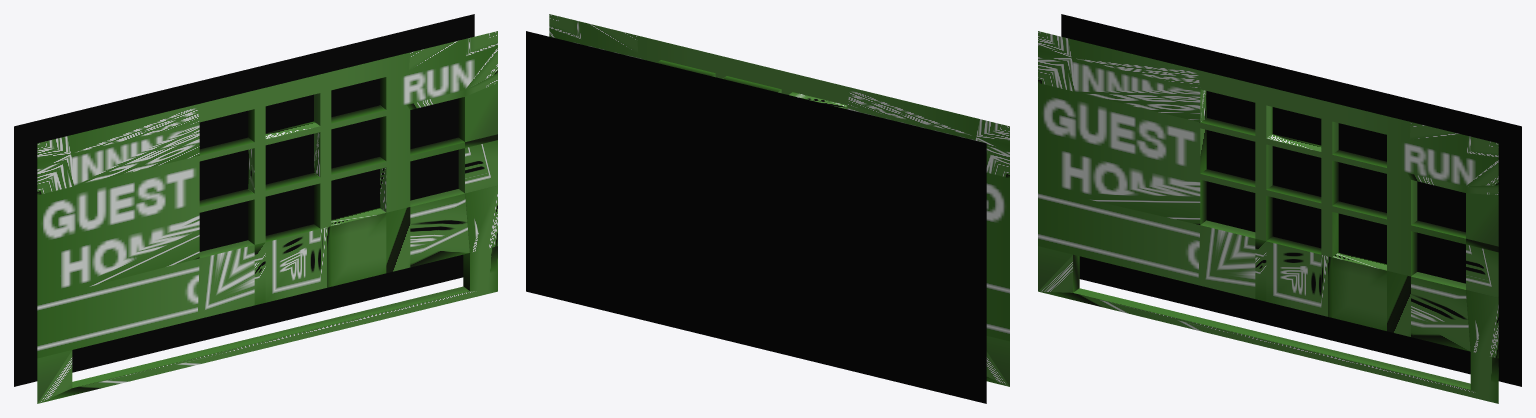
The model's file is default_scoreboard.obj.
3 renders of one model, left to right at view 1: azimuth 30°, elevation 25°; view 2: azimuth 150°, elevation 25°; view 3: azimuth 330°, elevation 25°, orthographic.
Parts seen in each view (by area): view 1: Mesh_X_Scoreboard; view 2: Mesh_X_Scoreboard; view 3: Mesh_X_Scoreboard.
Boxes of the visible parts, x1,y1,x2,y2 form: Mesh_X_Scoreboard: (14,14,497,403); Mesh_X_Scoreboard: (526,14,1009,403); Mesh_X_Scoreboard: (1038,14,1521,403).
Size of the model in its own units: 19.97 by 10.8 by 1.75.
